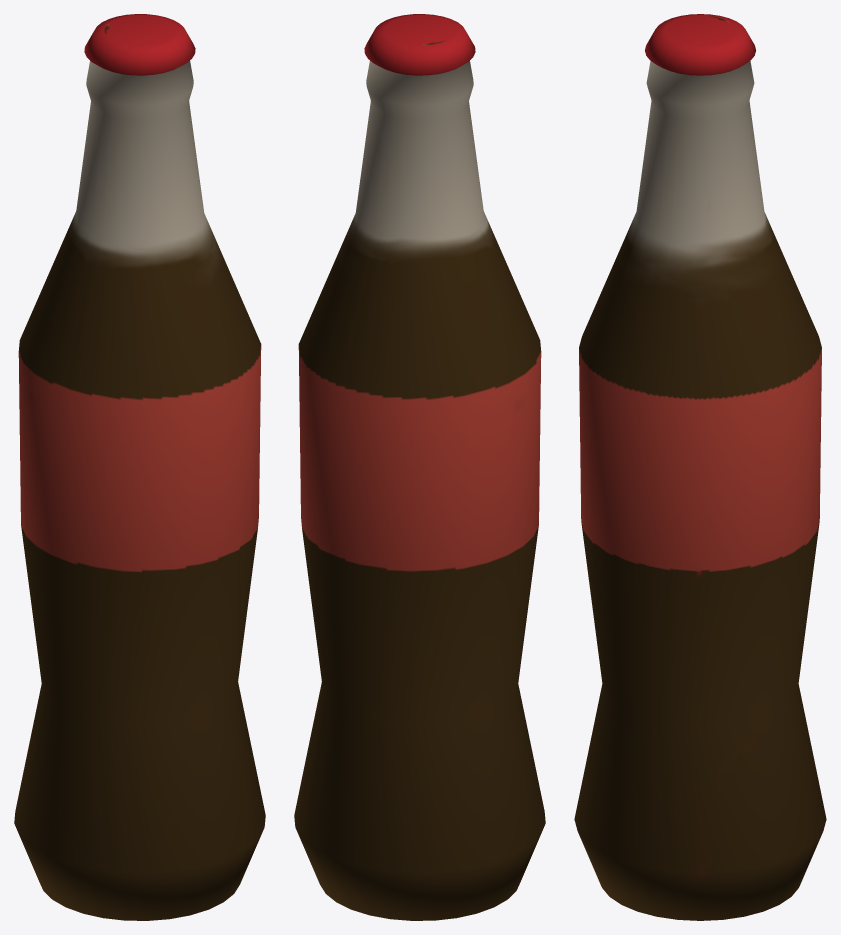
File: soda.fbx
3 views of the same model, side by side, from view 1: azimuth 30°, elevation 25°; view 2: azimuth 150°, elevation 25°; view 3: azimuth 270°, elevation 25° (orthographic).
Visible parts, largest first — view 1: LowPoly; view 2: LowPoly; view 3: LowPoly.
Part boxes in pixels (x1,y1,x2,y2): LowPoly: (14, 14, 265, 920); LowPoly: (294, 14, 545, 920); LowPoly: (574, 14, 826, 920).
Bounding box in the file's own units: 118 × 437 × 118.
1 material, 1 textured.
